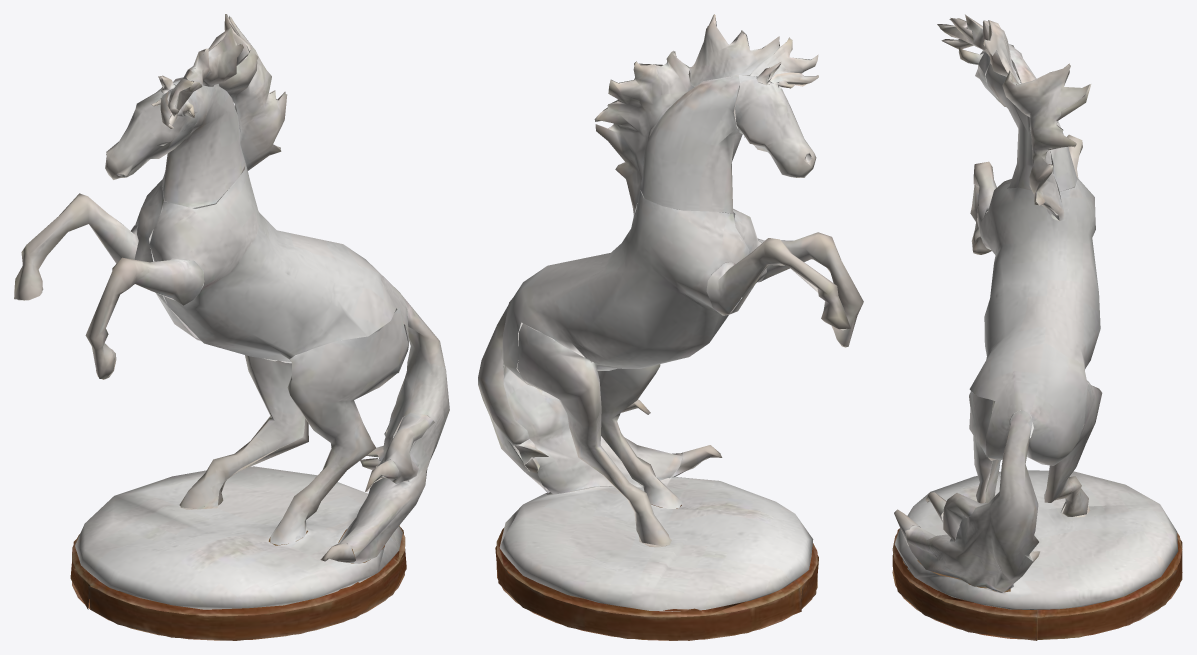
Rendered from horse_statue_01.glb.
3 views of the same model, side by side, from view 1: azimuth 30°, elevation 25°; view 2: azimuth 150°, elevation 25°; view 3: azimuth 270°, elevation 25° (orthographic). The views are drawn at different scales.
Parts seen in each view (by area): view 1: horse_statue_01; view 2: horse_statue_01; view 3: horse_statue_01.
Part boxes in pixels (<box>): horse_statue_01: <box>14,14,449,640</box>; horse_statue_01: <box>478,14,863,640</box>; horse_statue_01: <box>892,14,1182,640</box>.
Bounding box in the file's own units: 0.1635 × 0.22 × 0.1078.
2 materials, 2 textured.
